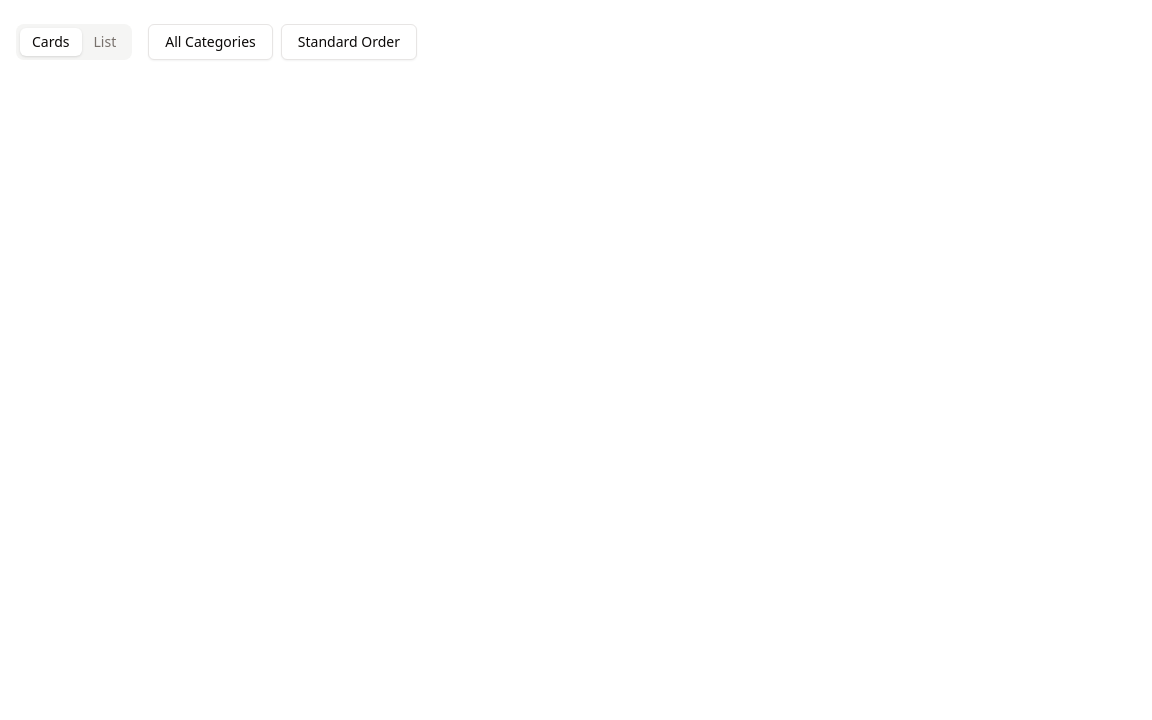
Test case: Component: CardDeckOptions › should display the "All Categories" option when the category selection dropdown is open
Open dropdown
Click the button with test id "category-selection-trigger": (211, 42) top-left (148, 24), bottom-right (273, 60)
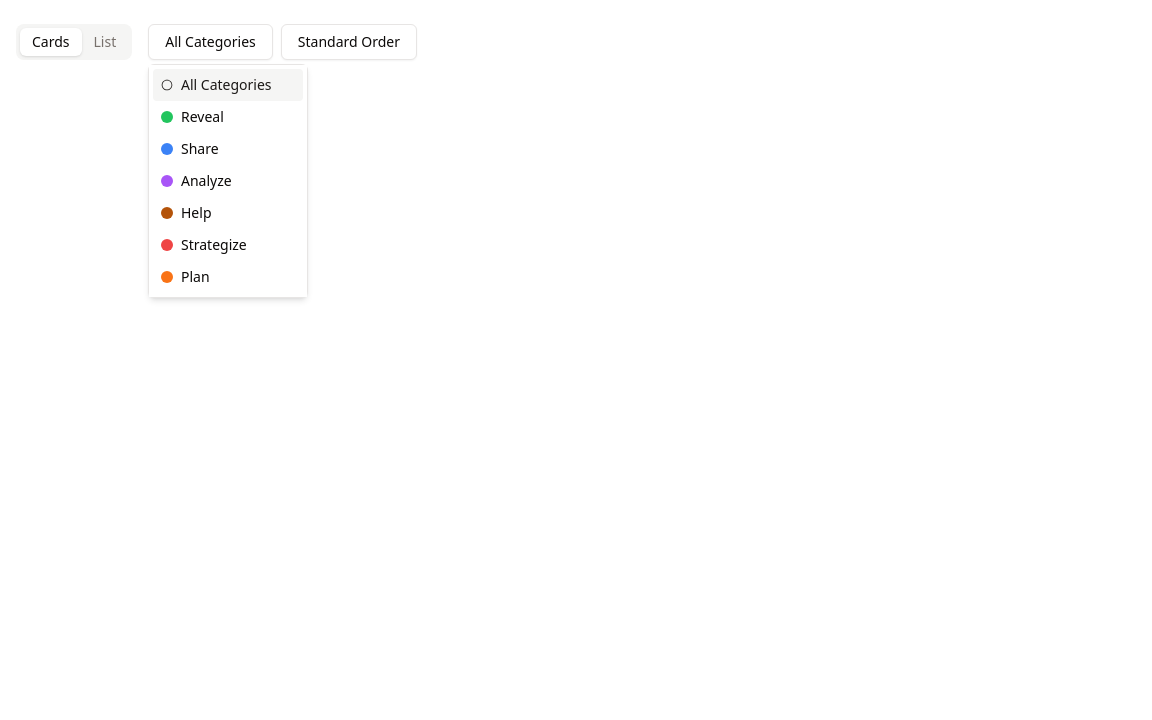
Result: the option with test id "category-selection-all" is shown at top-left (153, 69), bottom-right (303, 101)
